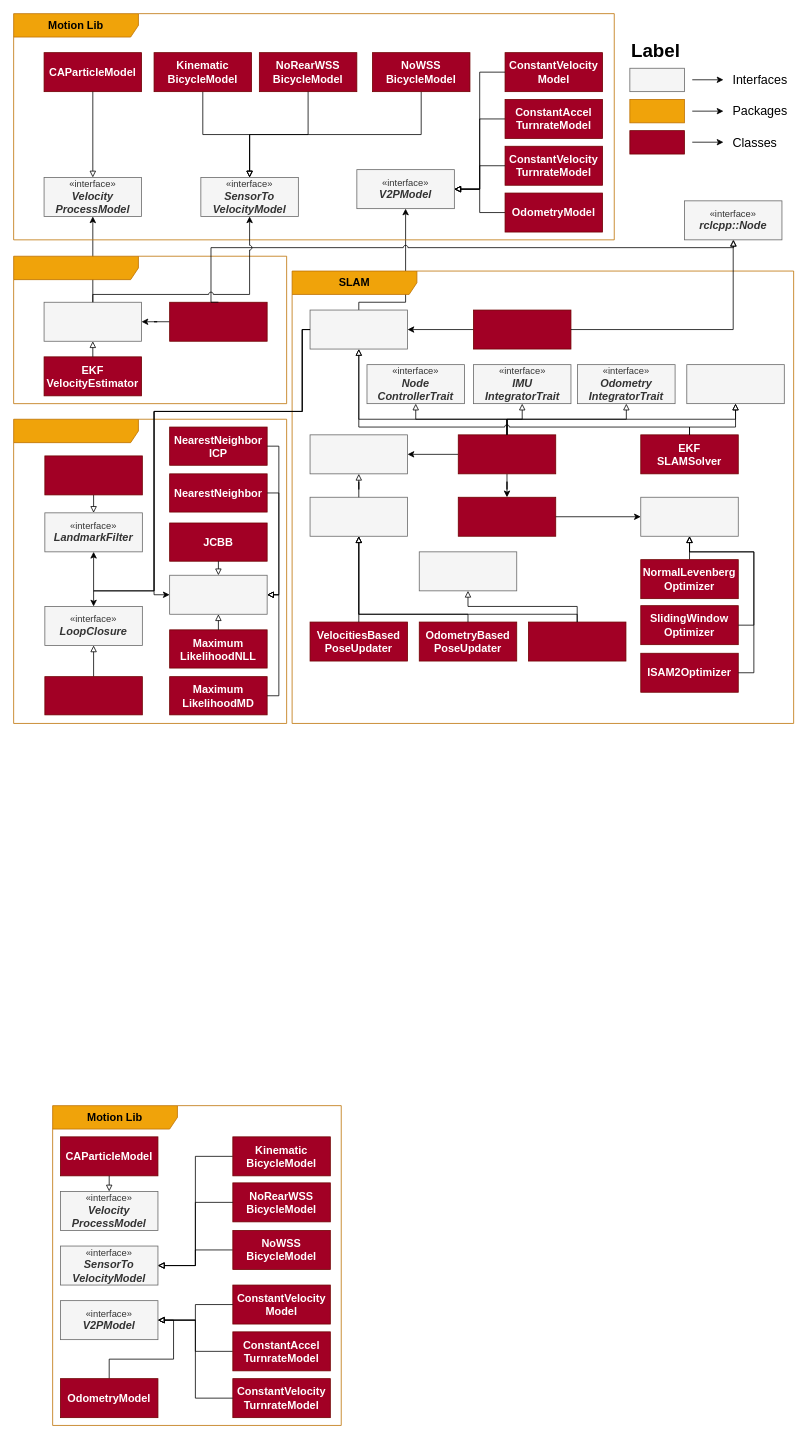
The diagram is 807 pixels wide and 1439 high, and some of its shapes have lost their labels. The box of each missing label's shape, as (x1, y1, x2, y2) in pixels:
Consecutive CounterFilter: (44, 455, 142, 495)
DoubleSource PoseUpdater: (528, 621, 626, 661)
GraphSLAM Instance: (457, 496, 556, 536)
GraphSLAMSolver: (457, 434, 556, 474)
LapCounter: (44, 676, 142, 715)
Observation Lib: (13, 418, 287, 723)
SLAMNode: (473, 309, 571, 349)
Velocity Estimation: (13, 255, 287, 404)
VENode: (169, 301, 267, 341)
«interface» BaseOptimizer: (640, 496, 738, 536)
«interface» DataAssociation: (169, 574, 267, 614)
«interface» DifferenceBased ReadyPoseUpdater: (309, 496, 408, 536)
«interface» Pose Updater: (309, 434, 408, 474)
«interface» SecondPose InputTrait: (418, 551, 517, 591)
«interface» SLAMSolver: (309, 309, 408, 349)
«interface» Velocities IntegratorTrait: (686, 364, 784, 404)
«interface» VelocityEstimator: (43, 301, 142, 341)
